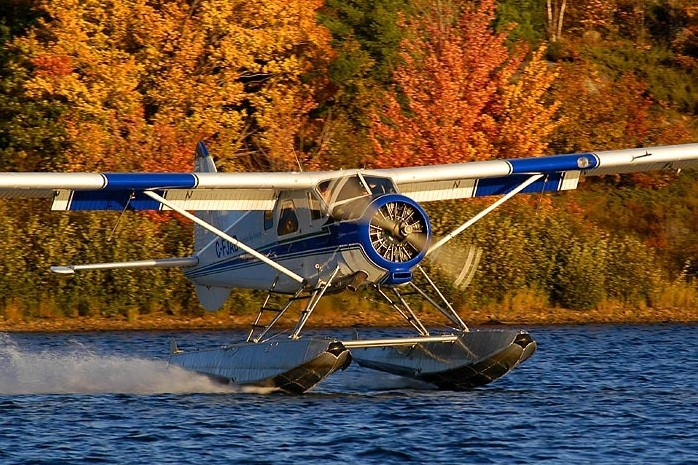Aeronef_de_loisir: (1, 122, 697, 408)
